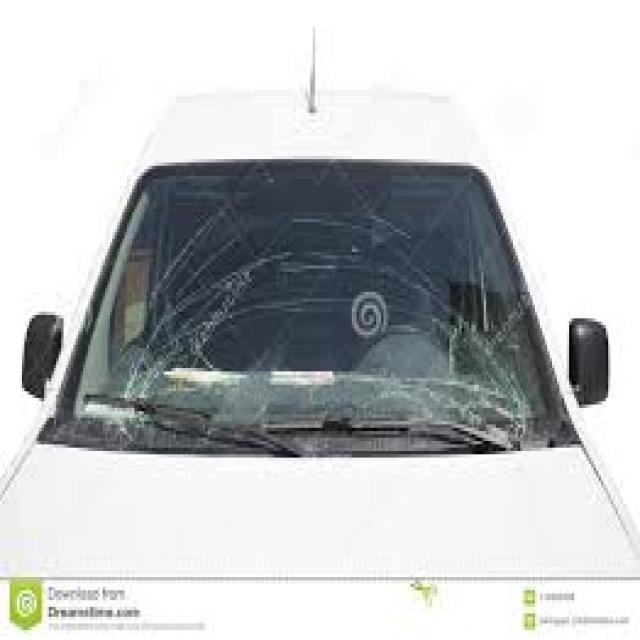damaged-windscreen: (59, 148, 576, 452)
